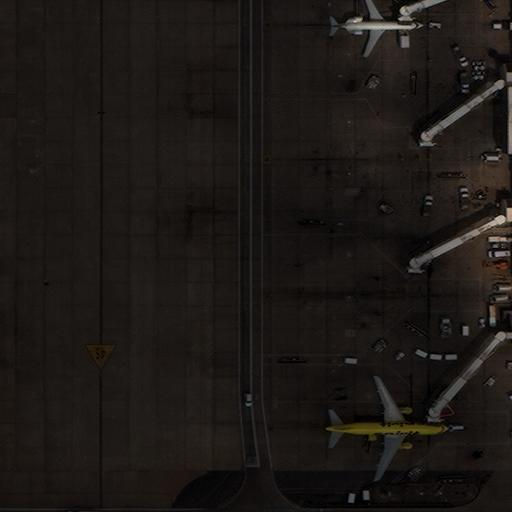Medium Civil Transport: (321, 376, 451, 480), (328, 0, 423, 57)
